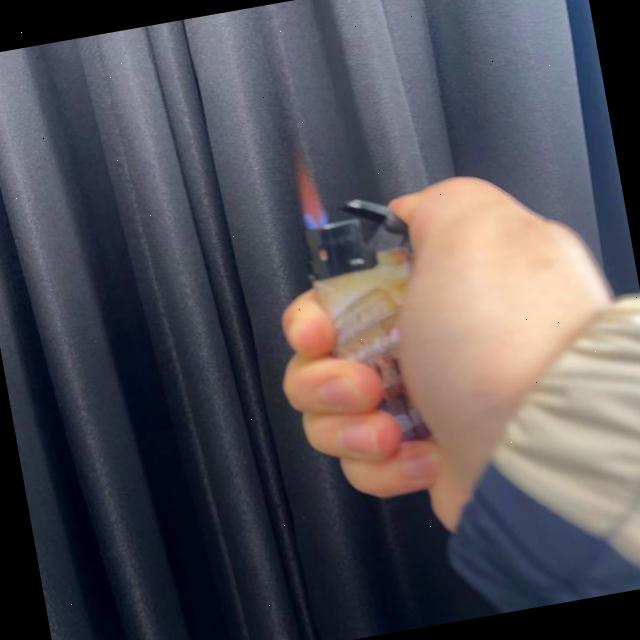fire: (285, 154, 332, 232)
